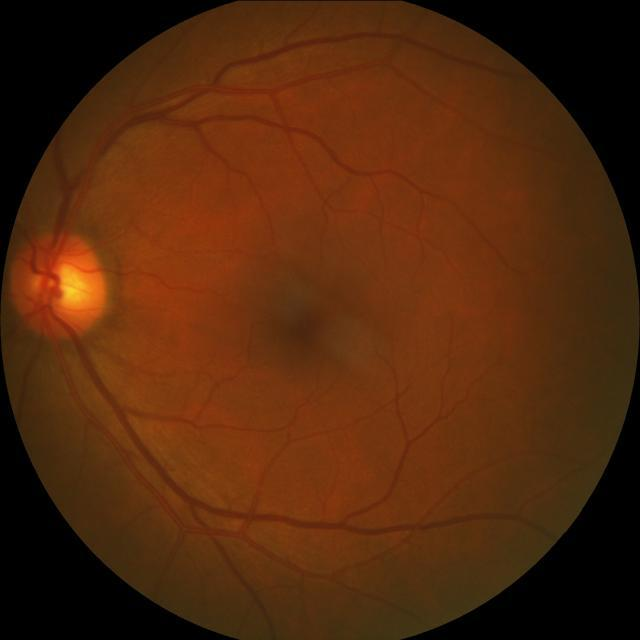OC: (49, 264, 88, 304)
OD: (7, 231, 104, 338)
